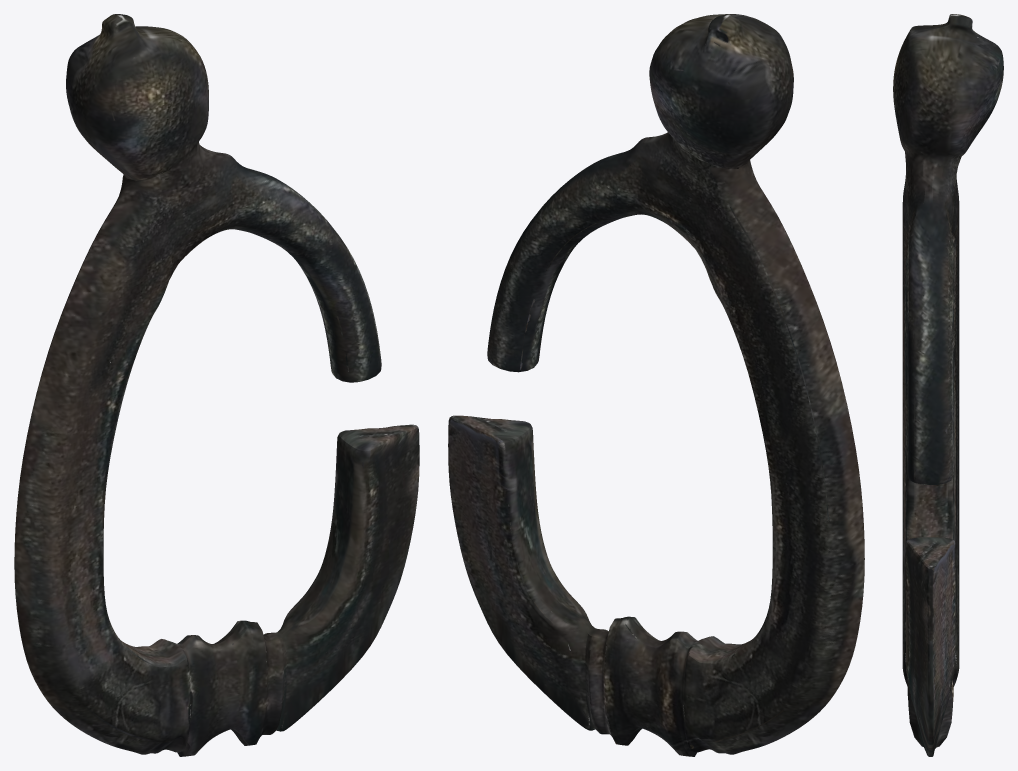
Rendered from earbip1.fbx.
The picture shows the model from 3 angles, left to right: view 1: azimuth 30°, elevation 25°; view 2: azimuth 150°, elevation 25°; view 3: azimuth 270°, elevation 25°; orthographic projection. The views are drawn at different scales.
Parts seen in each view (by area): view 1: Cube; view 2: Cube; view 3: Cube.
Part boxes in pixels (x1,y1,x2,y2): Cube: [14, 14, 419, 756]; Cube: [448, 14, 864, 756]; Cube: [893, 14, 1003, 756].
Bounding box in the file's own units: 1464 × 2587 × 381.
